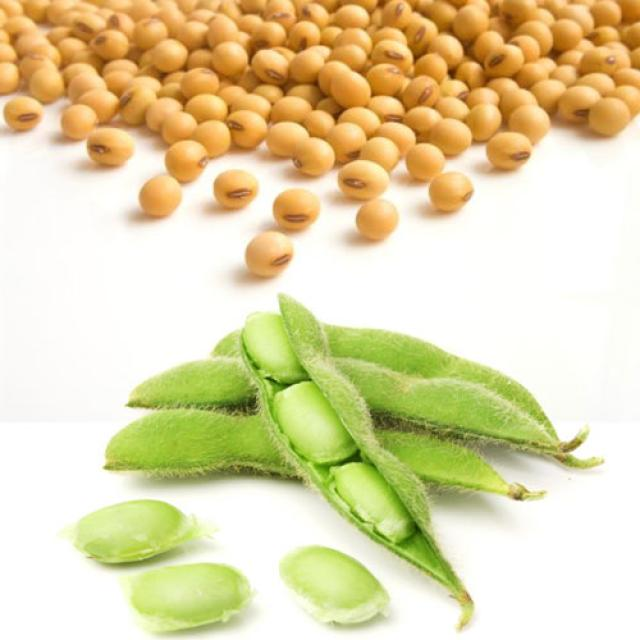Soya Beans: (0, 0, 640, 211), (245, 231, 292, 276), (338, 160, 389, 199), (274, 189, 320, 230), (139, 175, 182, 217), (165, 140, 208, 182), (429, 172, 474, 211), (486, 132, 532, 170), (214, 170, 259, 208), (88, 129, 134, 166), (356, 200, 399, 239), (406, 144, 445, 181), (4, 96, 44, 131)
